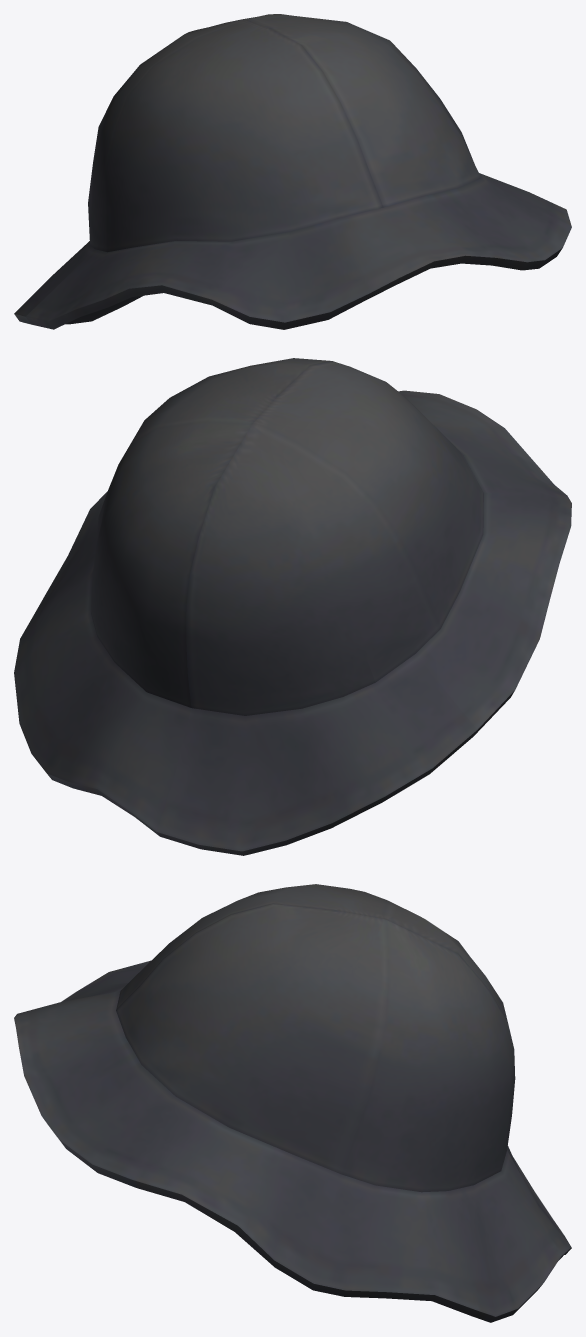
Rendered from accessory4.glb.
3 renders of one model, top to bottom at view 1: azimuth 30°, elevation 25°; view 2: azimuth 150°, elevation 25°; view 3: azimuth 270°, elevation 25°, orthographic. The views are drawn at different scales.
Parts seen in each view (by area): view 1: s4studio_mesh_1; view 2: s4studio_mesh_1; view 3: s4studio_mesh_1.
Boxes of the visible parts, x1,y1,x2,y2 form: s4studio_mesh_1: [14, 14, 571, 329]; s4studio_mesh_1: [14, 358, 571, 855]; s4studio_mesh_1: [14, 884, 571, 1322].
Bounding box in the file's own units: 0.2527 × 0.1872 × 0.264.
1 material, 1 textured.
